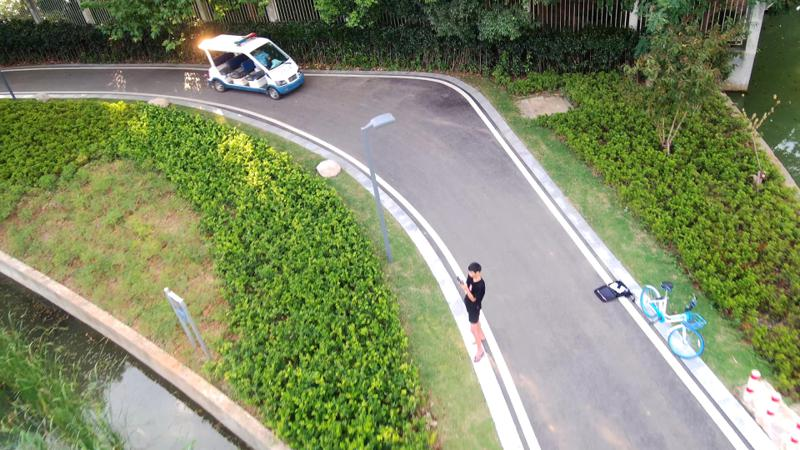passerby: (457, 262, 487, 364)
